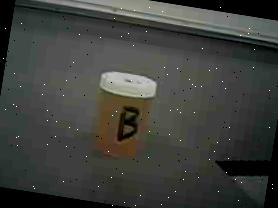Bottle B: (84, 68, 160, 166)
